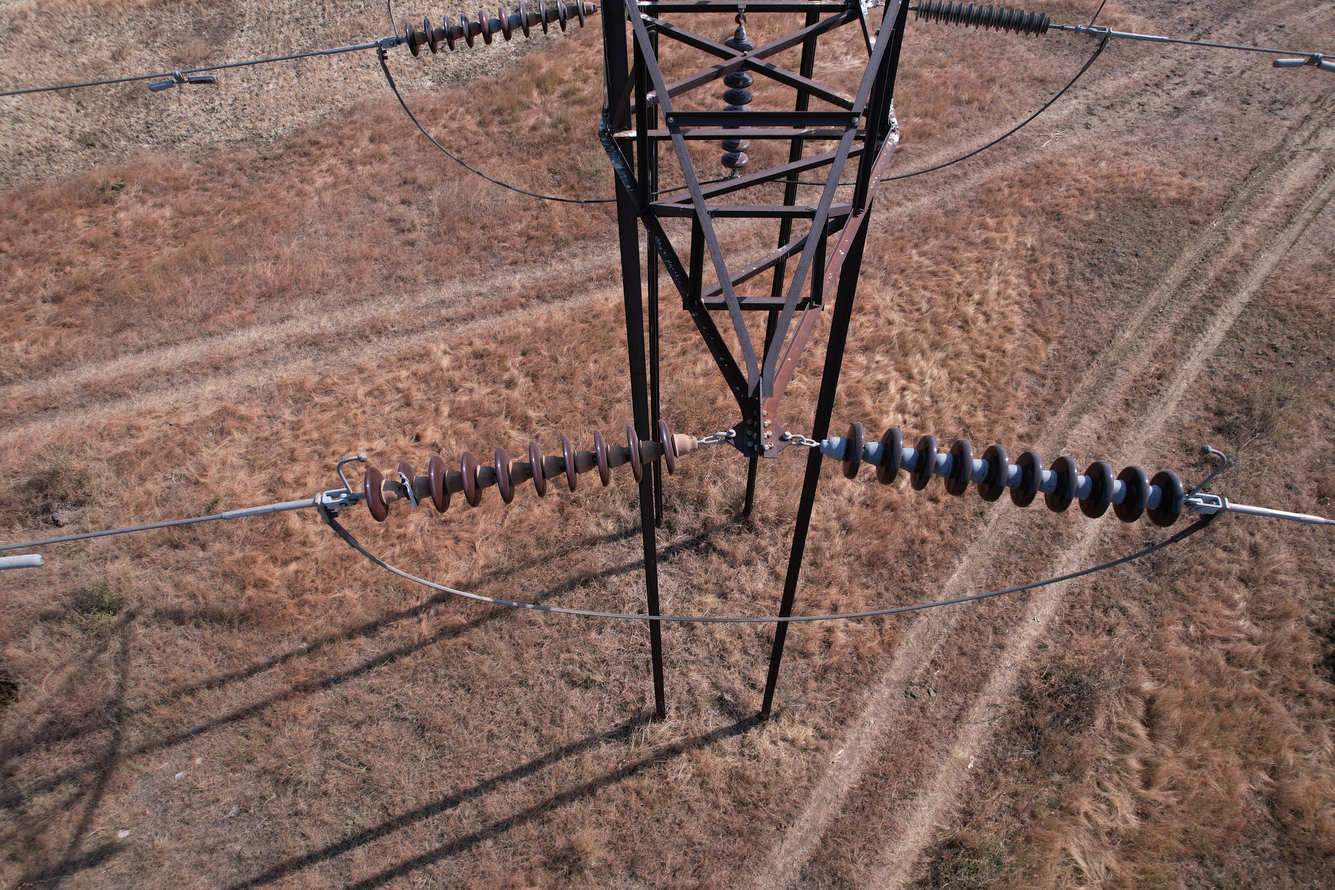broken_insulator: (396, 459, 422, 510)
